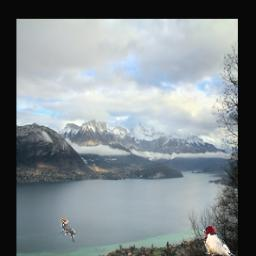Woodpecker: (199, 225, 237, 256), (58, 218, 75, 243)
